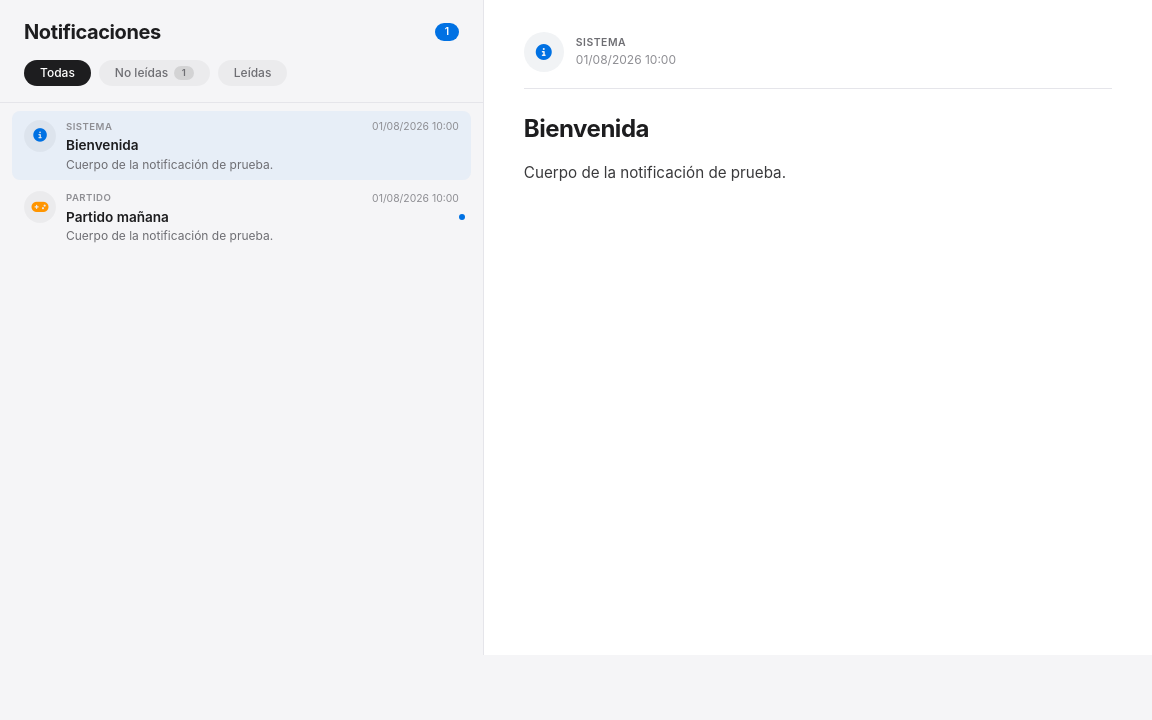
Test case: Notifications › filtra la lista por estado de lectura
Expected: the heading "Notificaciones" is shown, [24,20,161,44]
Expected: the text "Partido mañana" is shown, [66,209,169,225]
Click the button "No leídas 1". click: {"x": 154, "y": 73}
box: [99,60,210,86]
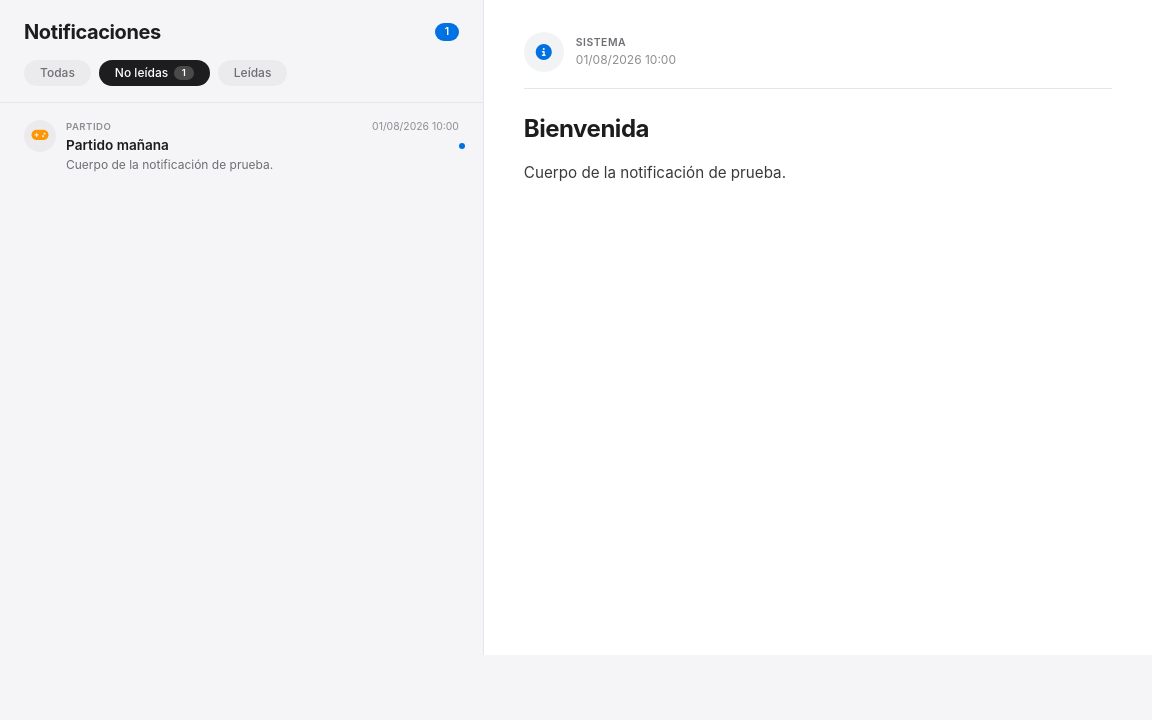
Expected: the text "Partido mañana" is shown, [66,137,169,153]
Click the button "Leídas". click: {"x": 253, "y": 73}
box: [218,60,287,86]
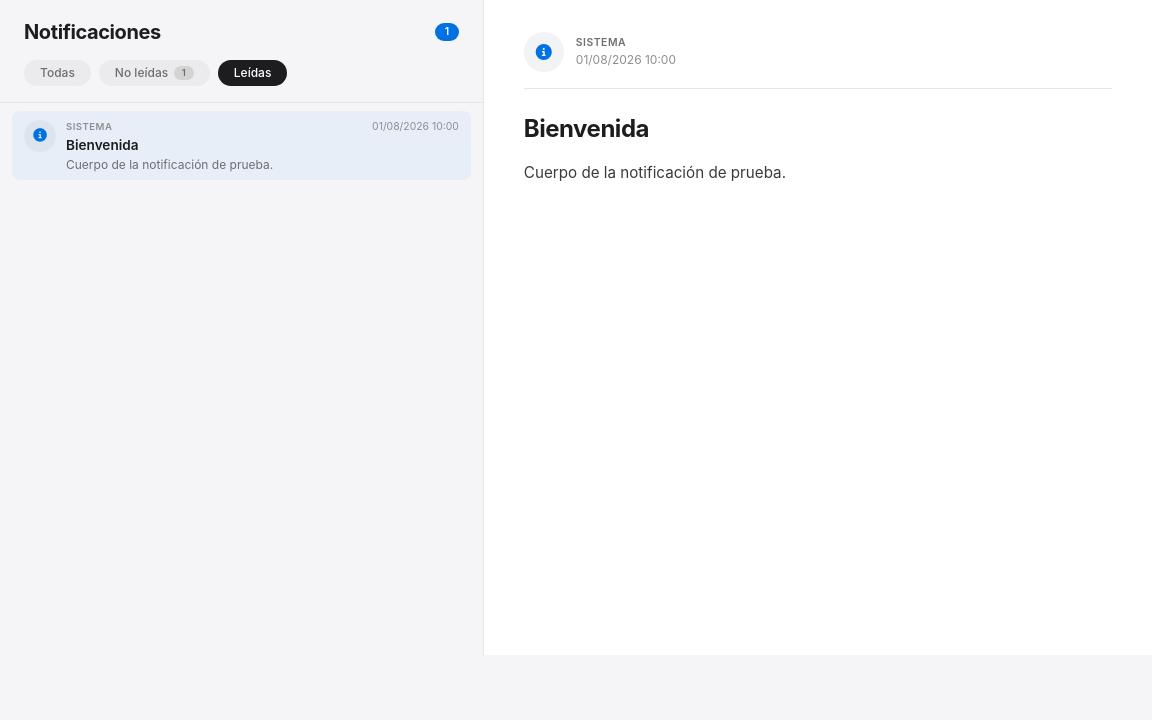
Expected: the text "Bienvenida" is shown, [66,137,139,153]
Expected: the text "Partido mañana" is gone
Click the button "Todas". click: {"x": 57, "y": 73}
box: [24,60,91,86]
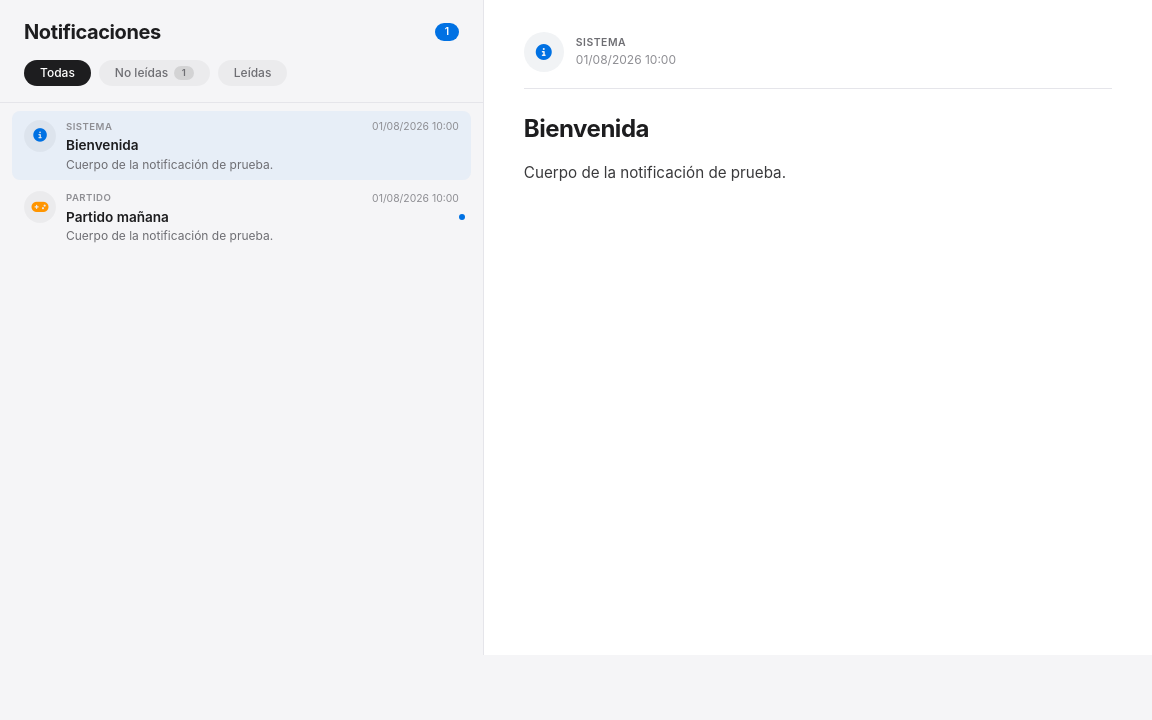
Expected: the text "Partido mañana" is shown, [66,209,169,225]
